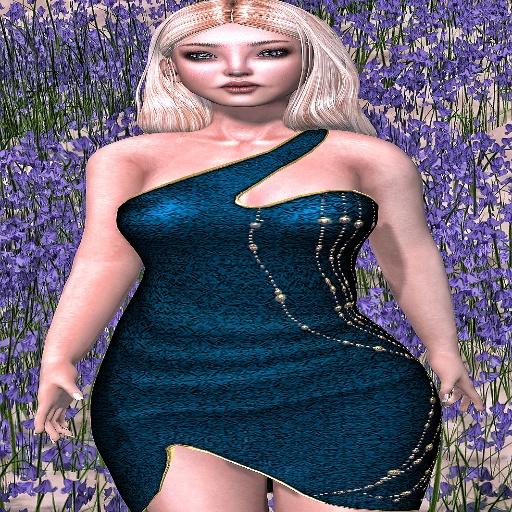hand: (32, 363, 87, 443), (443, 351, 485, 411)
